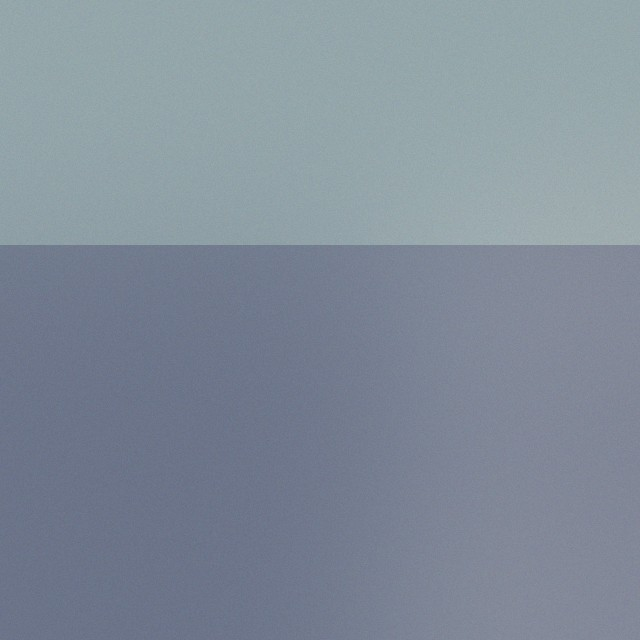smoke: (292, 213, 640, 585)
